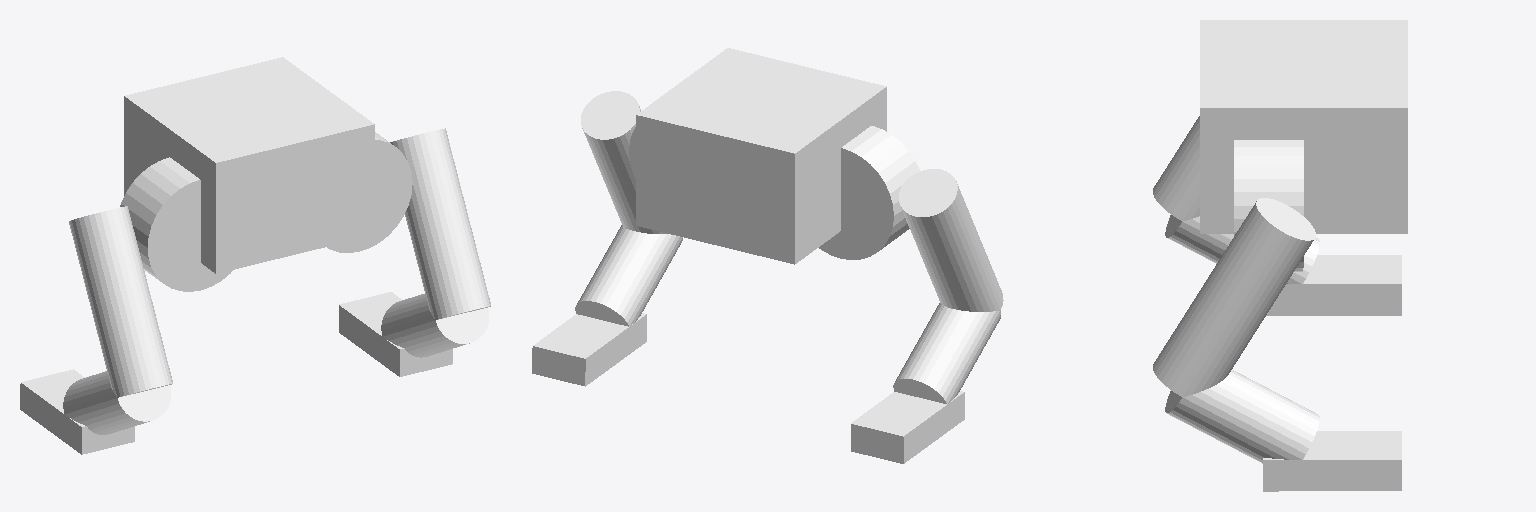
URDF robot description (prototype1):
<?xml version="1.0" encoding="UTF-8" ?>
<robot name="prototype1">

  <!-- ******************
       base_link
       ****************** -->
  <link name="base_link">
    <!-- 慣性要素（例） -->
    <inertial>
      <origin xyz="0 0 0" rpy="0 0 0"/>
      <mass value="1.0"/>
      <inertia ixx="0.01" ixy="0.0" ixz="0.0" iyy="0.01" iyz="0.0" izz="0.01"/>
    </inertial>

    <!-- 可視形状 -->
    <visual>
      <origin xyz="0 0 0" rpy="0 0 0"/>
      <geometry>
        <box size="0.3 0.3 0.2"/>
      </geometry>
      <material name="body">
        <color rgba="1 1 1 0.5"/>
      </material>
    </visual>

    <!-- 衝突形状 -->
    <collision>
      <origin xyz="0 0 0" rpy="0 0 0"/>
      <geometry>
        <box size="0.3 0.3 0.2"/>
      </geometry>
    </collision>
  </link>

  <!-- ******************
       base_left_hip_joint
       ****************** -->
  <joint name="base_left_hip_joint" type="revolute">
    <origin xyz="-0.15 -0.05 -0.05" rpy="1.57 0 0"/>
    <parent link="base_link"/>
    <child link="left_hip_link"/>
    <axis xyz="0 0 1"/>
    <!-- limit に effort / velocity を追加 -->
    <limit lower="-0.2" upper="0.2" effort="10" velocity="1.0"/>
  </joint>

  <!-- ******************
       left_hip_link
       ****************** -->
  <link name="left_hip_link">
    <inertial>
      <origin xyz="0 0 0" rpy="0 0 0"/>
      <mass value="0.3"/>
      <inertia ixx="0.003" ixy="0.0" ixz="0.0" iyy="0.003" iyz="0.0" izz="0.003"/>
    </inertial>
    <visual>
      <origin xyz="0 0 0" rpy="0 0 0"/>
      <geometry>
        <cylinder radius="0.1" length="0.1"/>
      </geometry>
      <material name="body">
        <color rgba="1 1 1 0.5"/>
      </material>
    </visual>
    <collision>
      <origin xyz="0 0 0" rpy="0 0 0"/>
      <geometry>
        <cylinder radius="0.1" length="0.1"/>
      </geometry>
    </collision>
  </link>

  <!-- ******************
       base_right_hip_joint
       ****************** -->
  <joint name="base_right_hip_joint" type="revolute">
    <origin xyz="0.15 -0.05 -0.05" rpy="1.57 0 0"/>
    <parent link="base_link"/>
    <child link="right_hip_link"/>
    <axis xyz="0 0 1"/>
    <limit lower="-0.2" upper="0.2" effort="10" velocity="1.0"/>
  </joint>

  <!-- ******************
       right_hip_link
       ****************** -->
  <link name="right_hip_link">
    <inertial>
      <origin xyz="0 0 0" rpy="0 0 0"/>
      <mass value="0.3"/>
      <inertia ixx="0.003" ixy="0.0" ixz="0.0" iyy="0.003" iyz="0.0" izz="0.003"/>
    </inertial>
    <visual>
      <origin xyz="0 0 0" rpy="0 0 0"/>
      <geometry>
        <cylinder radius="0.1" length="0.1"/>
      </geometry>
      <material name="body">
        <color rgba="1 1 1 0.5"/>
      </material>
    </visual>
    <collision>
      <origin xyz="0 0 0" rpy="0 0 0"/>
      <geometry>
        <cylinder radius="0.1" length="0.1"/>
      </geometry>
    </collision>
  </link>

  <!-- ******************
       left_hip_left_thigh_root_joint
       ****************** -->
  <joint name="left_hip_left_thigh_root_joint" type="revolute">
    <origin xyz="-0.15 0.0 0.0" rpy="1.05 0 0"/>
    <parent link="left_hip_link"/>
    <child link="left_thigh_root_link"/>
    <axis xyz="1 0 0"/>
    <limit lower="-0.43" upper="0.43" effort="10" velocity="1.0"/>
  </joint>

  <!-- ******************
       left_thigh_root_link
       ****************** -->
  <link name="left_thigh_root_link">
    <inertial>
      <origin xyz="0 0 0" rpy="0 0 0"/>
      <mass value="0.2"/>
      <inertia ixx="0.002" ixy="0.0" ixz="0.0" iyy="0.002" iyz="0.0" izz="0.002"/>
    </inertial>
    <visual>
      <origin xyz="0 0 0" rpy="0 0 0"/>
      <geometry>
        <cylinder radius="0.05" length="0.1"/>
      </geometry>
      <material name="body">
        <color rgba="1 1 1 0.5"/>
      </material>
    </visual>
    <collision>
      <origin xyz="0 0 0" rpy="0 0 0"/>
      <geometry>
        <cylinder radius="0.05" length="0.1"/>
      </geometry>
    </collision>
  </link>

  <!-- ******************
       right_hip_right_thigh_root_joint
       ****************** -->
  <joint name="right_hip_right_thigh_root_joint" type="revolute">
    <origin xyz="0.15 0.0 0.0" rpy="1.05 0 0"/>
    <parent link="right_hip_link"/>
    <child link="right_thigh_root_link"/>
    <axis xyz="1 0 0"/>
    <limit lower="-0.43" upper="0.43" effort="10" velocity="1.0"/>
  </joint>

  <!-- ******************
       right_thigh_root_link
       ****************** -->
  <link name="right_thigh_root_link">
    <inertial>
      <origin xyz="0 0 0" rpy="0 0 0"/>
      <mass value="0.2"/>
      <inertia ixx="0.002" ixy="0.0" ixz="0.0" iyy="0.002" iyz="0.0" izz="0.002"/>
    </inertial>
    <visual>
      <origin xyz="0 0 0" rpy="0 0 0"/>
      <geometry>
        <cylinder radius="0.05" length="0.1"/>
      </geometry>
      <material name="body">
        <color rgba="1 1 1 0.5"/>
      </material>
    </visual>
    <collision>
      <origin xyz="0 0 0" rpy="0 0 0"/>
      <geometry>
        <cylinder radius="0.05" length="0.1"/>
      </geometry>
    </collision>
  </link>

  <!-- ******************
       left_thigh_root_left_thigh_joint
       ****************** -->
  <joint name="left_thigh_root_left_thigh_joint" type="revolute">
    <origin xyz="0 0 0.15" rpy="0 0 0"/>
    <parent link="left_thigh_root_link"/>
    <child link="left_thigh_link"/>
    <axis xyz="0 0 1"/>
    <limit lower="-0.215" upper="0.215" effort="10" velocity="1.0"/>
  </joint>

  <!-- ******************
       left_thigh_link
       ****************** -->
  <link name="left_thigh_link">
    <inertial>
      <origin xyz="0 0 0" rpy="0 0 0"/>
      <mass value="0.3"/>
      <inertia ixx="0.003" ixy="0.0" ixz="0.0" iyy="0.003" iyz="0.0" izz="0.003"/>
    </inertial>
    <visual>
      <origin xyz="0 0 0" rpy="0 0 0"/>
      <geometry>
        <cylinder radius="0.05" length="0.2"/>
      </geometry>
      <material name="body">
        <color rgba="1 1 1 0.5"/>
      </material>
    </visual>
    <collision>
      <origin xyz="0 0 0" rpy="0 0 0"/>
      <geometry>
        <cylinder radius="0.05" length="0.2"/>
      </geometry>
    </collision>
  </link>

  <!-- ******************
       right_thigh_root_right_thigh_joint
       ****************** -->
  <joint name="right_thigh_root_right_thigh_joint" type="revolute">
    <origin xyz="0 0 0.15" rpy="0 0 0"/>
    <parent link="right_thigh_root_link"/>
    <child link="right_thigh_link"/>
    <axis xyz="0 0 1"/>
    <limit lower="-0.215" upper="0.215" effort="10" velocity="1.0"/>
  </joint>

  <!-- ******************
       right_thigh_link
       ****************** -->
  <link name="right_thigh_link">
    <inertial>
      <origin xyz="0 0 0" rpy="0 0 0"/>
      <mass value="0.3"/>
      <inertia ixx="0.003" ixy="0.0" ixz="0.0" iyy="0.003" iyz="0.0" izz="0.003"/>
    </inertial>
    <visual>
      <origin xyz="0 0 0" rpy="0 0 0"/>
      <geometry>
        <cylinder radius="0.05" length="0.2"/>
      </geometry>
      <material name="body">
        <color rgba="1 1 1 0.5"/>
      </material>
    </visual>
    <collision>
      <origin xyz="0 0 0" rpy="0 0 0"/>
      <geometry>
        <cylinder radius="0.05" length="0.2"/>
      </geometry>
    </collision>
  </link>

  <!-- ******************
       left_thigh_left_calf_joint
       ****************** -->
  <joint name="left_thigh_left_calf_joint" type="revolute">
    <origin xyz="0 0 0.1" rpy="1.57 0 0"/>
    <parent link="left_thigh_link"/>
    <child link="left_calf_link"/>
    <axis xyz="1 0 0"/>
    <limit lower="-0.43" upper="0" effort="10" velocity="1.0"/>
  </joint>

  <!-- ******************
       left_calf_link
       ****************** -->
  <link name="left_calf_link">
    <inertial>
      <origin xyz="0 0 0" rpy="0 0 0"/>
      <mass value="0.2"/>
      <inertia ixx="0.002" ixy="0.0" ixz="0.0" iyy="0.002" iyz="0.0" izz="0.002"/>
    </inertial>
    <visual>
      <origin xyz="0 0 0.1" rpy="0 0 0"/>
      <geometry>
        <cylinder radius="0.05" length="0.2"/>
      </geometry>
      <material name="body">
        <color rgba="1 1 1 0.5"/>
      </material>
    </visual>
    <collision>
      <origin xyz="0 0 0.1" rpy="0 0 0"/>
      <geometry>
        <cylinder radius="0.05" length="0.2"/>
      </geometry>
    </collision>
  </link>

  <!-- ******************
       right_thigh_right_calf_joint
       ****************** -->
  <joint name="right_thigh_right_calf_joint" type="revolute">
    <origin xyz="0 0 0.1" rpy="1.57 0 0"/>
    <parent link="right_thigh_link"/>
    <child link="right_calf_link"/>
    <axis xyz="1 0 0"/>
    <limit lower="-0.43" upper="0" effort="10" velocity="1.0"/>
  </joint>

  <!-- ******************
       right_calf_link
       ****************** -->
  <link name="right_calf_link">
    <inertial>
      <origin xyz="0 0 0" rpy="0 0 0"/>
      <mass value="0.2"/>
      <inertia ixx="0.002" ixy="0.0" ixz="0.0" iyy="0.002" iyz="0.0" izz="0.002"/>
    </inertial>
    <visual>
      <origin xyz="0 0 0.1" rpy="0 0 0"/>
      <geometry>
        <cylinder radius="0.05" length="0.2"/>
      </geometry>
      <material name="body">
        <color rgba="1 1 1 0.5"/>
      </material>
    </visual>
    <collision>
      <origin xyz="0 0 0.1" rpy="0 0 0"/>
      <geometry>
        <cylinder radius="0.05" length="0.2"/>
      </geometry>
    </collision>
  </link>

  <!-- ******************
       left_calf_left_foot_joint
       ****************** -->
  <joint name="left_calf_left_foot_joint" type="revolute">
    <origin xyz="0 0 0.25" rpy="-1.047 0 0"/>
    <parent link="left_calf_link"/>
    <child link="left_foot_link"/>
    <axis xyz="1 0 0"/>
    <limit lower="0" upper="0.43" effort="10" velocity="1.0"/>
  </joint>

  <!-- ******************
       left_foot_link
       ****************** -->
  <link name="left_foot_link">
    <inertial>
      <origin xyz="0 0 0" rpy="0 0 0"/>
      <mass value="0.1"/>
      <inertia ixx="0.001" ixy="0.0" ixz="0.0" iyy="0.001" iyz="0.0" izz="0.001"/>
    </inertial>
    <visual>
      <origin xyz="0 0 0" rpy="0 0 0"/>
      <geometry>
        <box size="0.1 0.2 0.05"/>
      </geometry>
      <material name="body">
        <color rgba="1 1 1 0.5"/>
      </material>
    </visual>
    <collision>
      <origin xyz="0 0 0" rpy="0 0 0"/>
      <geometry>
        <box size="0.1 0.2 0.05"/>
      </geometry>
    </collision>
  </link>

  <!-- ******************
       right_calf_right_foot_joint
       ****************** -->
  <joint name="right_calf_right_foot_joint" type="revolute">
    <origin xyz="0 0 0.25" rpy="-1.047 0 0"/>
    <parent link="right_calf_link"/>
    <child link="right_foot_link"/>
    <axis xyz="1 0 0"/>
    <limit lower="0" upper="0.43" effort="10" velocity="1.0"/>
  </joint>

  <!-- ******************
       right_foot_link
       ****************** -->
  <link name="right_foot_link">
    <inertial>
      <origin xyz="0 0 0" rpy="0 0 0"/>
      <mass value="0.1"/>
      <inertia ixx="0.001" ixy="0.0" ixz="0.0" iyy="0.001" iyz="0.0" izz="0.001"/>
    </inertial>
    <visual>
      <origin xyz="0 0 0" rpy="0 0 0"/>
      <geometry>
        <box size="0.1 0.2 0.05"/>
      </geometry>
      <material name="body">
        <color rgba="1 1 1 0.5"/>
      </material>
    </visual>
    <collision>
      <origin xyz="0 0 0" rpy="0 0 0"/>
      <geometry>
        <box size="0.1 0.2 0.05"/>
      </geometry>
    </collision>
  </link>

</robot>

--- Facts derived from the render (not from the file) ---
The picture shows the robot from 3 angles, left to right: view 1: azimuth 30°, elevation 25°; view 2: azimuth 150°, elevation 25°; view 3: azimuth 270°, elevation 25°; orthographic projection.
Model prototype1 with 11 links and 10 joints (10 revolute), rooted at base_link, posed every joint at zero.
Visible links, largest first — view 1: base_link, left_hip_link, left_thigh_link, right_thigh_link, left_calf_link, right_calf_link, left_foot_link, right_foot_link, left_thigh_root_link, right_hip_link, right_thigh_root_link; view 2: base_link, left_hip_link, left_calf_link, right_calf_link, right_foot_link, left_foot_link, left_thigh_root_link, left_thigh_link, right_thigh_root_link, right_thigh_link; view 3: base_link, right_thigh_link, right_calf_link, right_foot_link, left_foot_link, right_thigh_root_link, right_hip_link, left_thigh_link, left_calf_link.
Link boxes in pixels (x1,y1,x2,y2): base_link: (124, 57, 374, 273); left_hip_link: (120, 157, 232, 291); left_thigh_link: (84, 265, 172, 397); right_thigh_link: (405, 188, 490, 319); left_calf_link: (63, 371, 170, 434); right_calf_link: (381, 294, 488, 357); left_foot_link: (20, 369, 134, 454); right_foot_link: (339, 292, 452, 376); left_thigh_root_link: (69, 206, 142, 279); right_hip_link: (327, 132, 412, 252); right_thigh_root_link: (390, 128, 460, 199); base_link: (636, 48, 886, 264); left_hip_link: (819, 126, 919, 259); left_calf_link: (893, 303, 1000, 403); right_calf_link: (575, 225, 682, 326); right_foot_link: (532, 313, 646, 386); left_foot_link: (851, 391, 964, 463); left_thigh_root_link: (899, 169, 972, 253); left_thigh_link: (916, 220, 1003, 311); right_thigh_root_link: (581, 91, 640, 176); right_thigh_link: (598, 166, 666, 233); base_link: (1200, 20, 1407, 233); right_thigh_link: (1153, 257, 1278, 396); right_calf_link: (1165, 370, 1319, 463); right_foot_link: (1263, 431, 1401, 491); left_foot_link: (1266, 255, 1401, 315); right_thigh_root_link: (1222, 198, 1315, 294); right_hip_link: (1234, 140, 1303, 271); left_thigh_link: (1153, 116, 1199, 221); left_calf_link: (1165, 215, 1319, 283).
Bounding box of the posed robot: 0.7 × 0.3679 × 0.5166 m (x, y, z).
Geometry: primitives only (box / cylinder / sphere), no mesh files.
